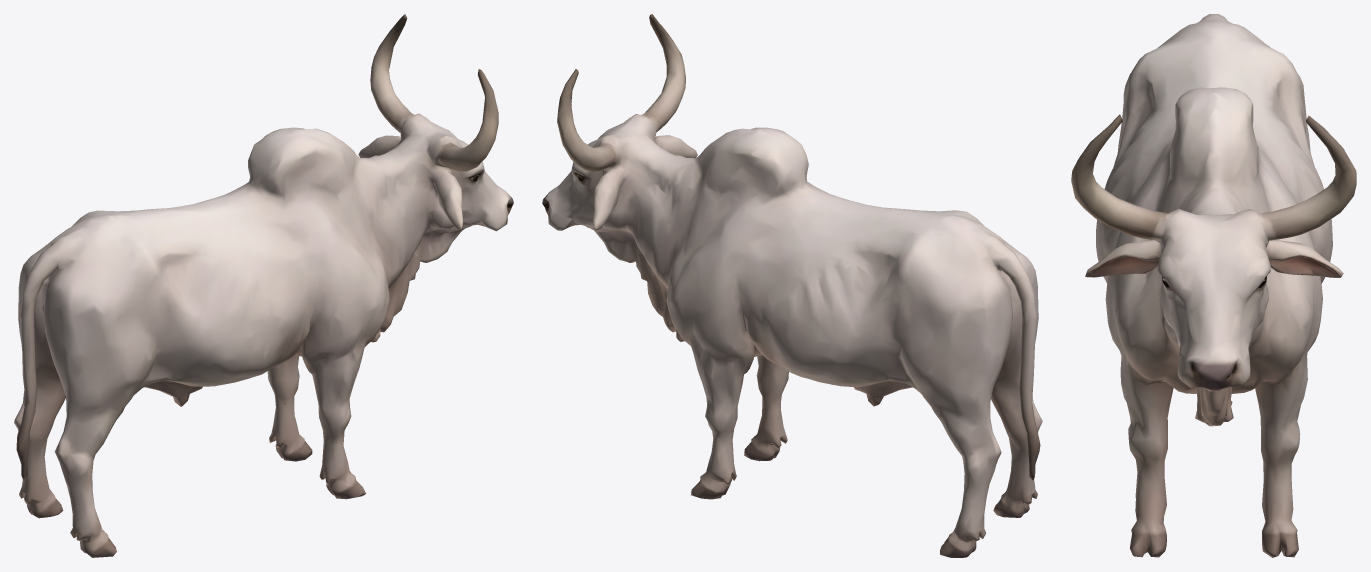
The model's file is cow_white.glb.
3 views of the same model, side by side, from view 1: azimuth 30°, elevation 25°; view 2: azimuth 150°, elevation 25°; view 3: azimuth 270°, elevation 25° (orthographic). The views are drawn at different scales.
Parts seen in each view (by area): view 1: tripo_node_159620ab-7b9b-467a-9832-86f43b8a01e1; view 2: tripo_node_159620ab-7b9b-467a-9832-86f43b8a01e1; view 3: tripo_node_159620ab-7b9b-467a-9832-86f43b8a01e1.
Boxes of the visible parts, x1,y1,x2,y2 form: tripo_node_159620ab-7b9b-467a-9832-86f43b8a01e1: (14, 14, 513, 557); tripo_node_159620ab-7b9b-467a-9832-86f43b8a01e1: (542, 14, 1042, 557); tripo_node_159620ab-7b9b-467a-9832-86f43b8a01e1: (1071, 14, 1356, 557).
Size of the model in its own units: 1 by 0.7842 by 0.3981.
Materials: 1 (1 with a texture image).
